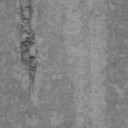oxide scale of plate system: (20, 0, 38, 96)
